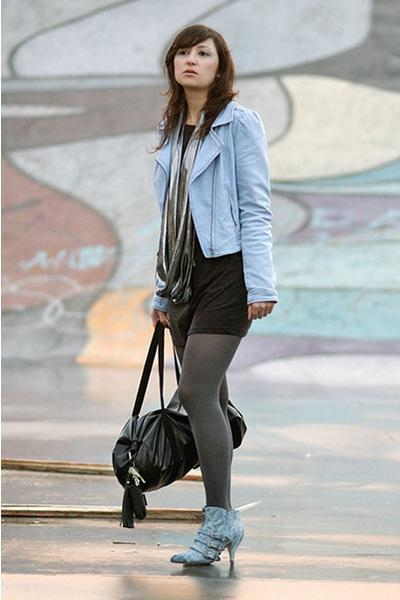bag: (112, 320, 246, 496)
jacket: (145, 99, 284, 299)
shirt: (158, 156, 202, 275)
shoe: (170, 502, 241, 577)
skirt: (156, 252, 251, 347)
